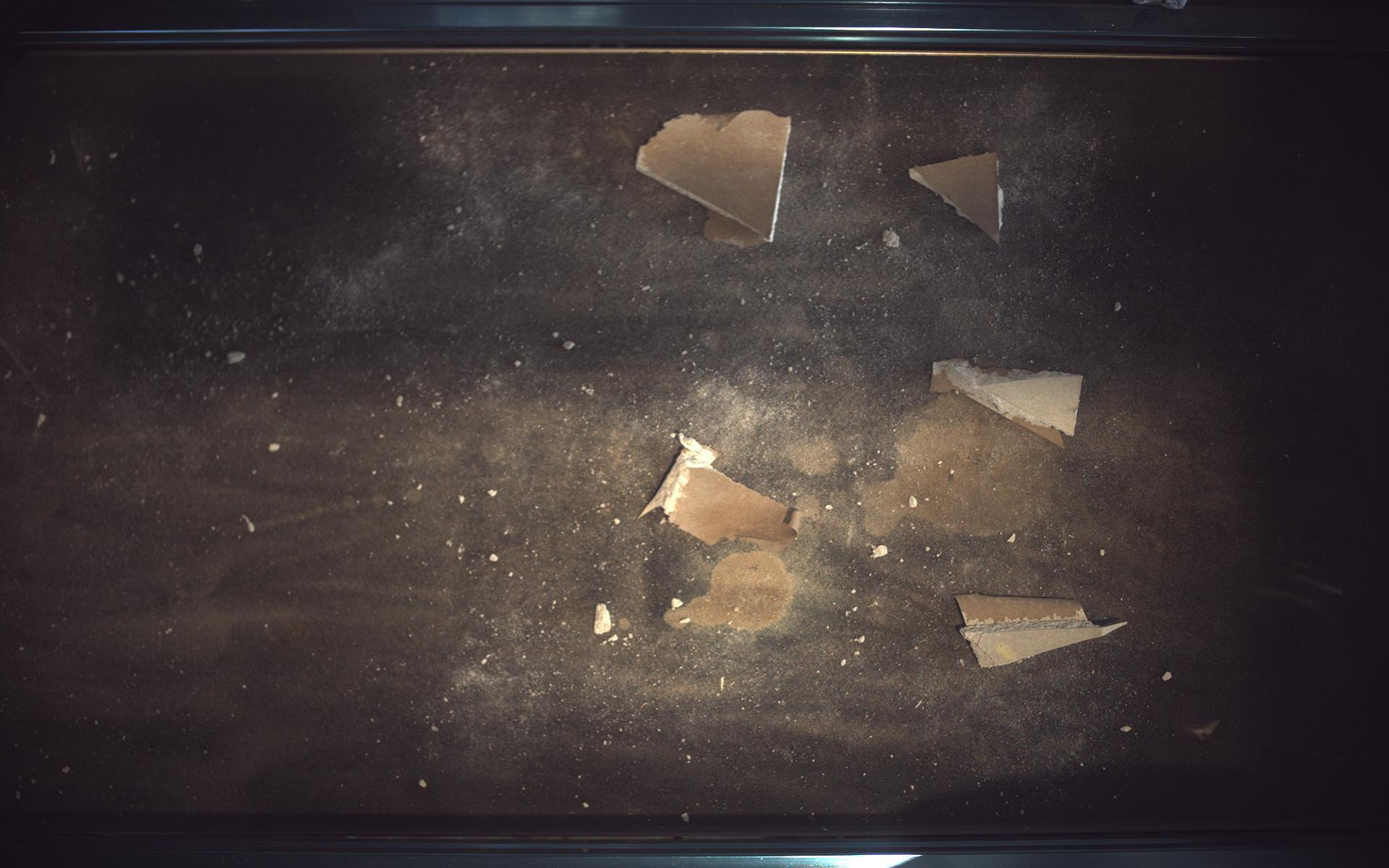gypsum_board: (637, 109, 792, 247), (642, 433, 802, 545), (932, 358, 1084, 447), (958, 595, 1129, 669), (911, 152, 1006, 242)
